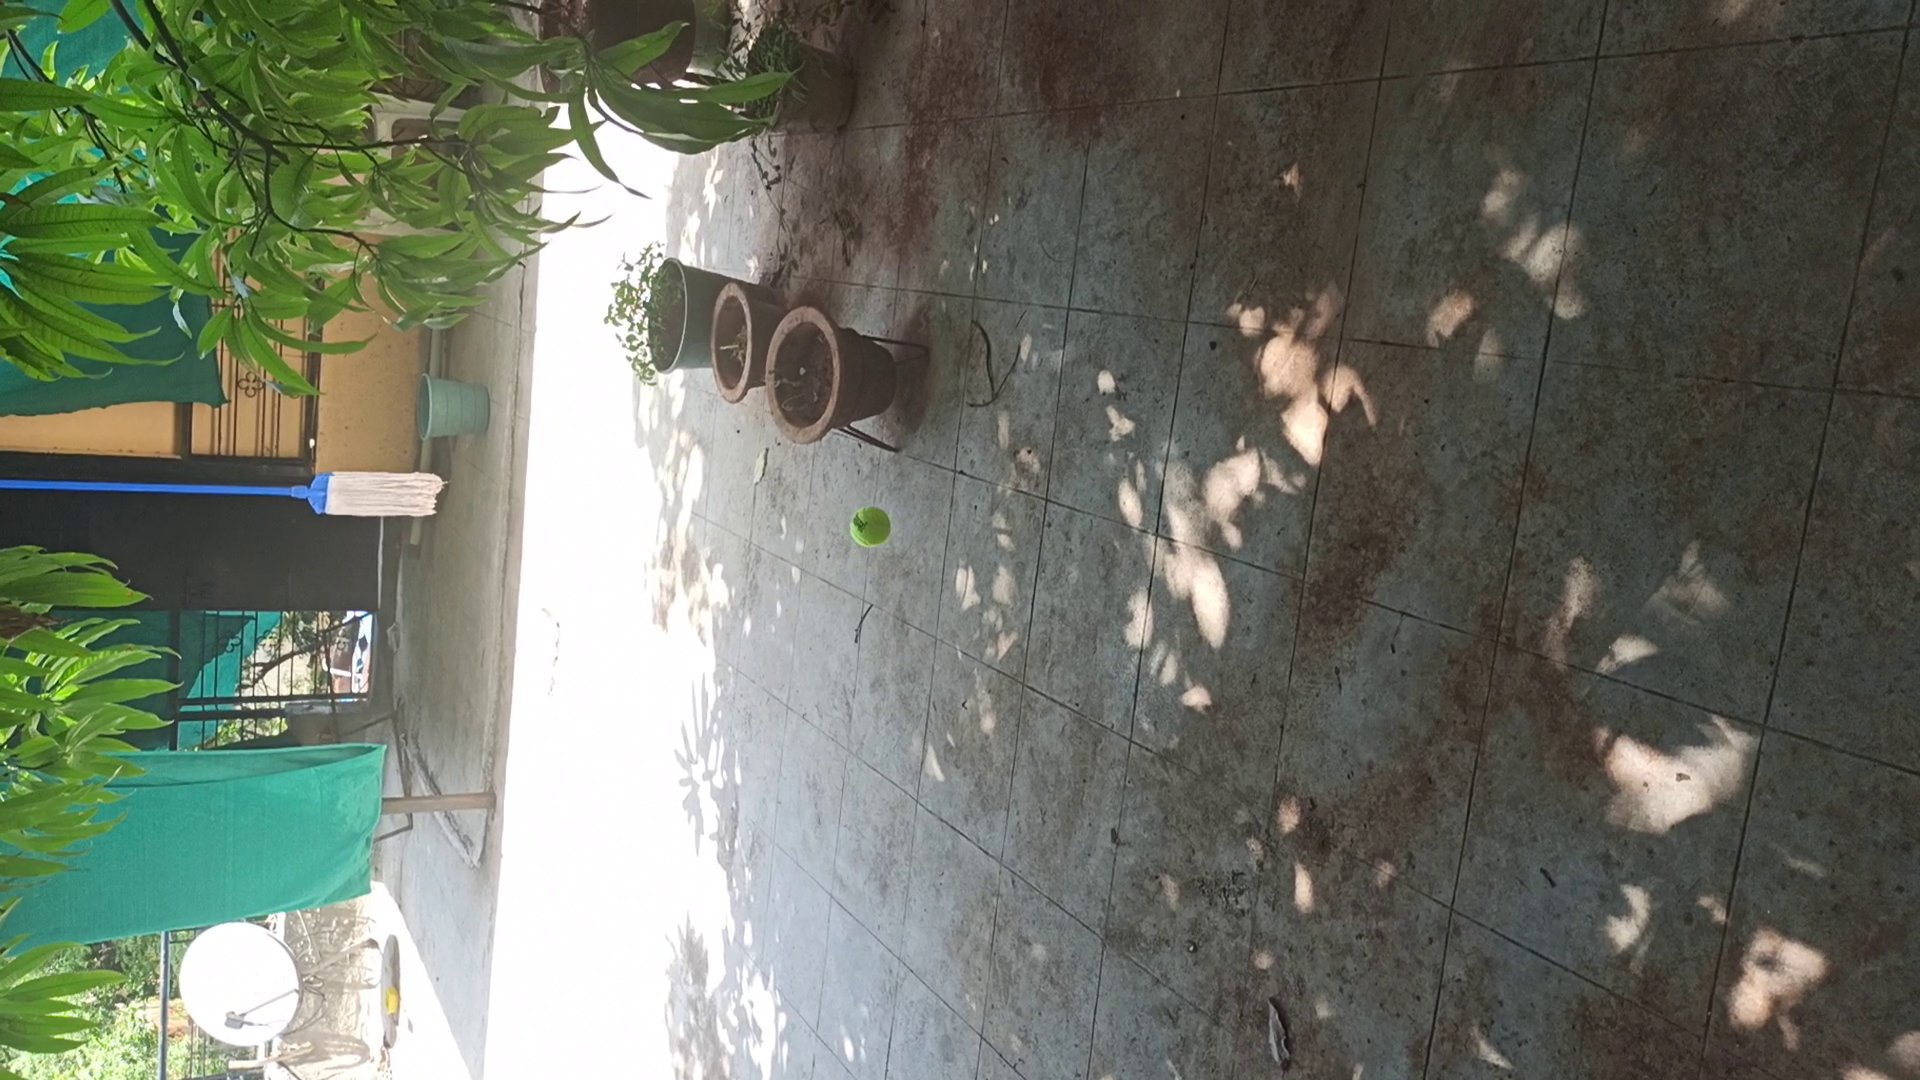Tennis-Ball: (849, 506, 891, 547)
